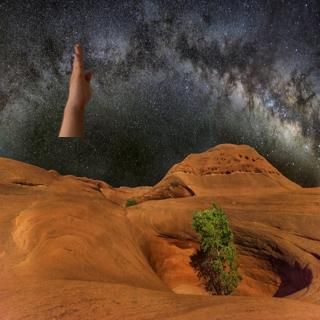RIGHT: (62, 39, 96, 110)
